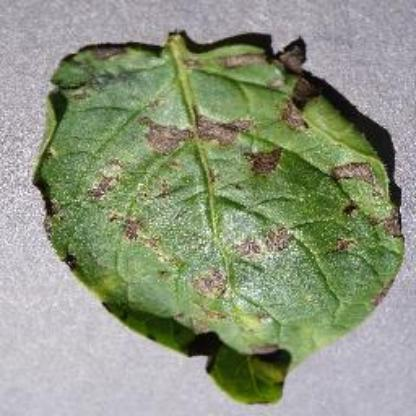Early-Blight: (33, 24, 413, 411)
